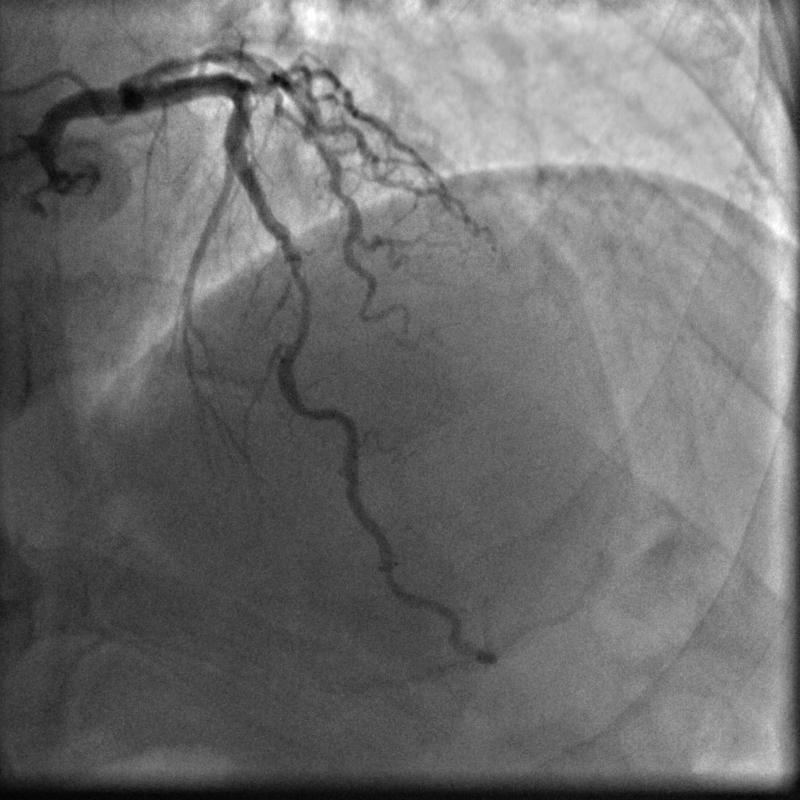Stenosis: (283, 258, 313, 345)
